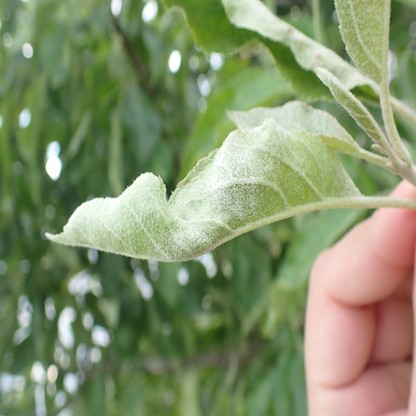powder: (47, 101, 362, 261), (313, 0, 390, 150), (224, 99, 353, 145), (316, 67, 384, 142)
